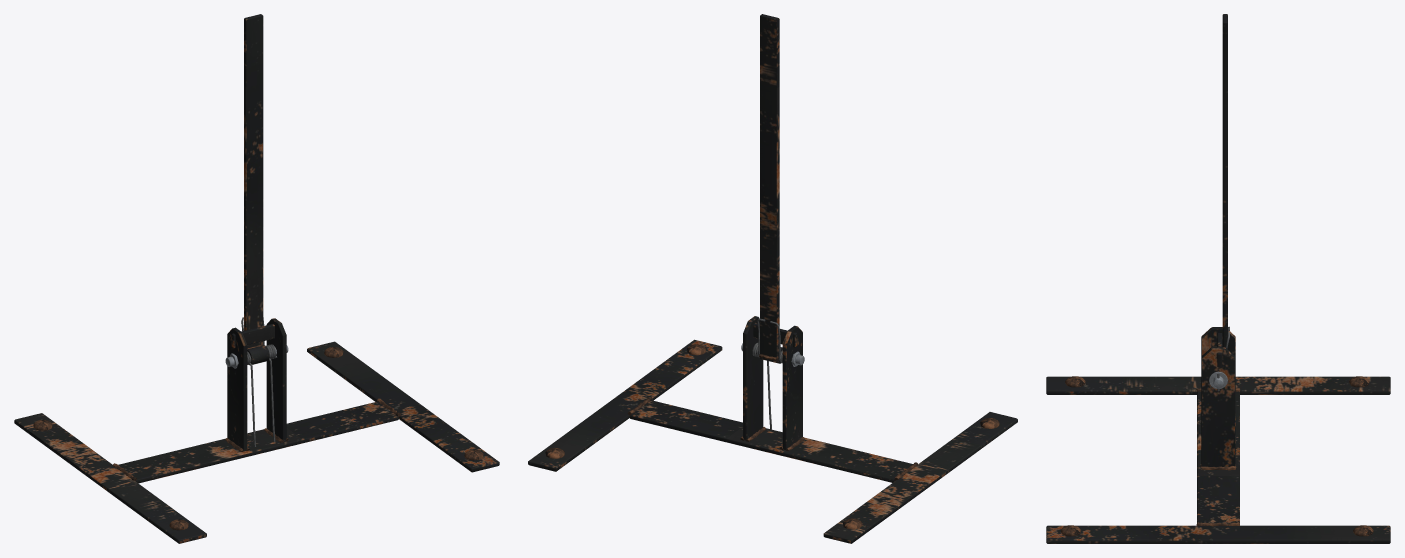
Rendered from pivot_target.glb.
3 views of the same model, side by side, from view 1: azimuth 30°, elevation 25°; view 2: azimuth 150°, elevation 25°; view 3: azimuth 270°, elevation 25° (orthographic). The views are drawn at different scales.
Parts seen in each view (by area): view 1: base, arm; view 2: base, arm; view 3: base, arm.
Part boxes in pixels (x1,y1,x2,y2): base: (14,318,499,543); arm: (241,14,269,365); base: (528,316,1017,543); arm: (757,14,782,363); base: (1046,327,1390,543); arm: (1222,14,1229,348).
Bounding box in the file's own units: 0.45 × 0.57 × 0.4.
Materials: 4 (4 with a texture image).
